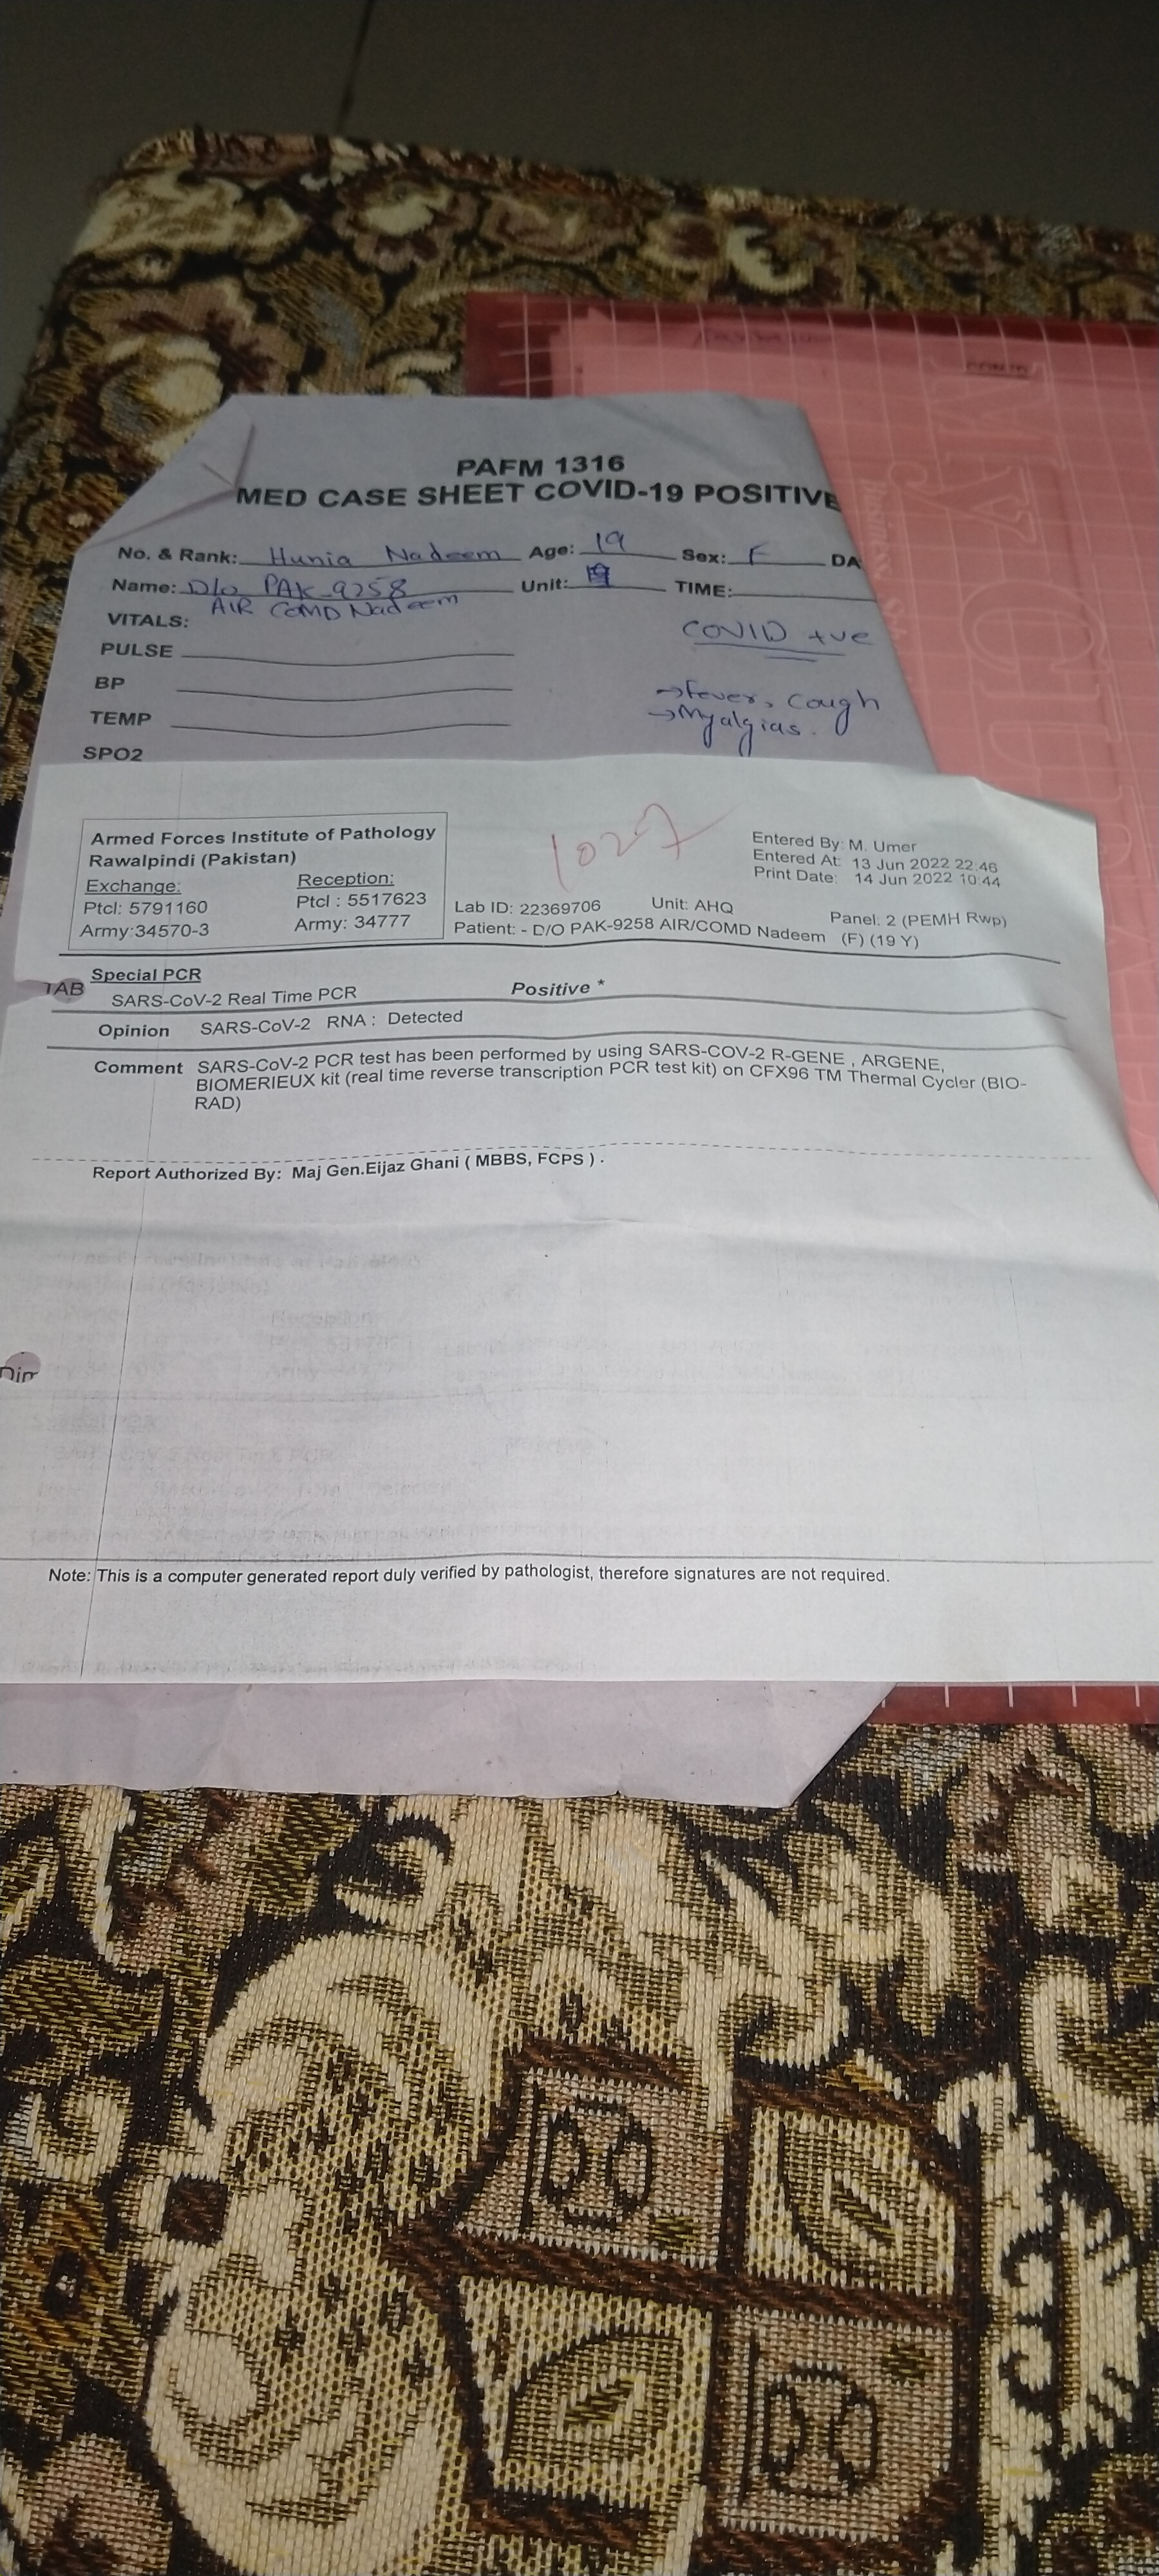report: (51, 954, 1075, 1053)
